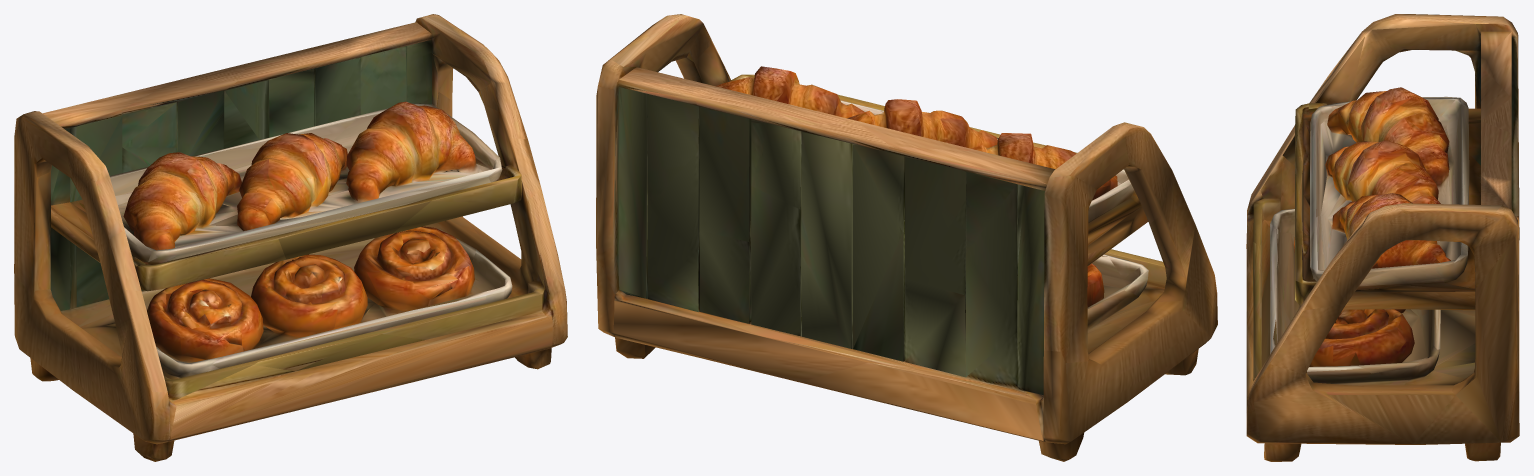
Rendered from cafe-pastry-display.glb.
The picture shows the model from 3 angles, left to right: view 1: azimuth 30°, elevation 25°; view 2: azimuth 150°, elevation 25°; view 3: azimuth 270°, elevation 25°; orthographic projection. The views are drawn at different scales.
Parts seen in each view (by area): view 1: tripo_node_c7d64e78-2ff3-447b-a3cf-345de93ddba9; view 2: tripo_node_c7d64e78-2ff3-447b-a3cf-345de93ddba9; view 3: tripo_node_c7d64e78-2ff3-447b-a3cf-345de93ddba9.
Part boxes in pixels (x1,y1,x2,y2): tripo_node_c7d64e78-2ff3-447b-a3cf-345de93ddba9: (14, 14, 567, 461); tripo_node_c7d64e78-2ff3-447b-a3cf-345de93ddba9: (596, 14, 1217, 461); tripo_node_c7d64e78-2ff3-447b-a3cf-345de93ddba9: (1246, 14, 1519, 461).
Bounding box in the file's own units: 0.9094 × 0.55 × 0.528.
Materials: 1 (1 with a texture image).
